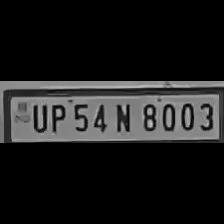0: (159, 100, 177, 132), (178, 100, 195, 130)
3: (197, 99, 215, 131)
4: (90, 100, 110, 132)
5: (68, 100, 90, 134)
8: (136, 100, 158, 132)
N: (110, 100, 132, 134)
P: (47, 101, 66, 133)
U: (28, 101, 48, 133)
